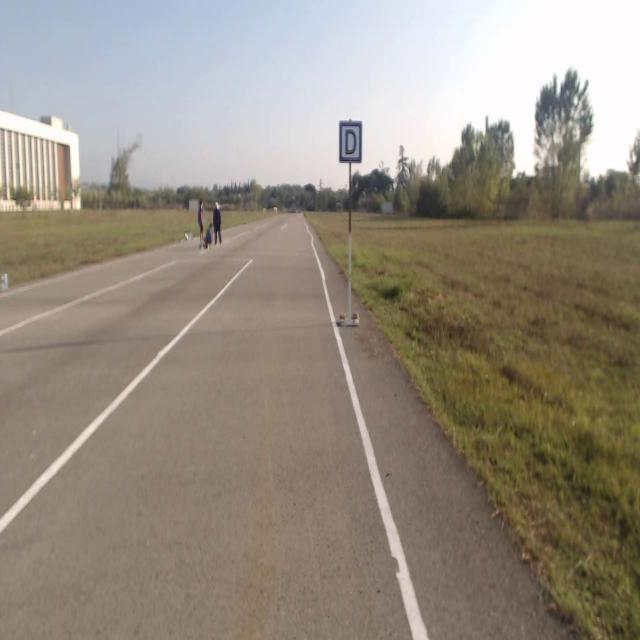durak: (339, 122, 361, 162)
